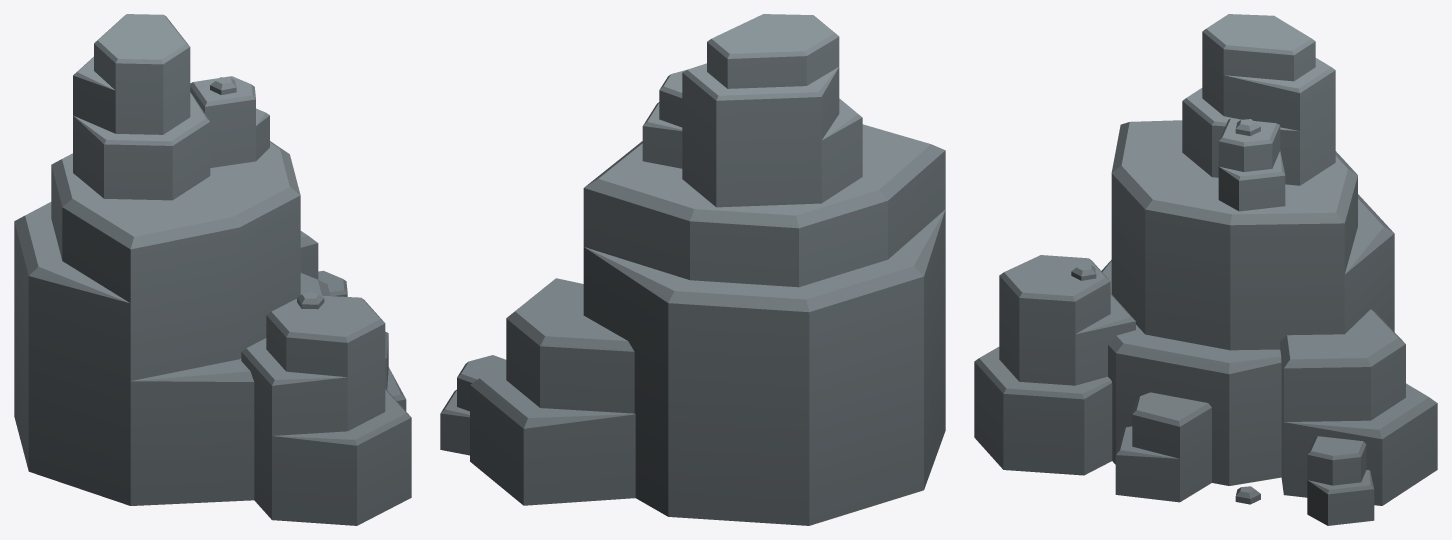
The model's file is kf_rock_1_j.fbx.
The picture shows the model from 3 angles, left to right: view 1: azimuth 30°, elevation 25°; view 2: azimuth 150°, elevation 25°; view 3: azimuth 270°, elevation 25°; orthographic projection. The views are drawn at different scales.
Parts seen in each view (by area): view 1: kf_rock_1_j_LOD0; view 2: kf_rock_1_j_LOD0; view 3: kf_rock_1_j_LOD0.
Boxes of the visible parts, <box> form: kf_rock_1_j_LOD0: <box>14,14,411,525</box>; kf_rock_1_j_LOD0: <box>440,14,945,525</box>; kf_rock_1_j_LOD0: <box>974,14,1437,525</box>.
Size of what is drawn, in the model's own units: 8.14 by 8.05 by 9.02.
